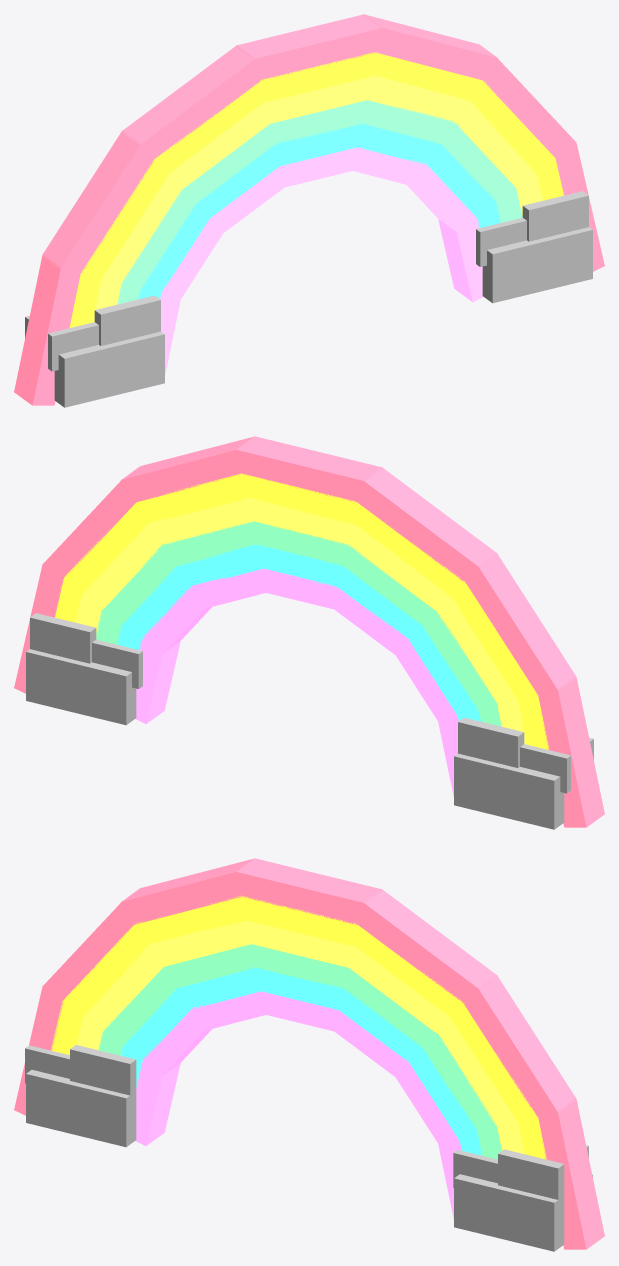
File: MutRainbow.fbx
3 renders of one model, top to bottom at view 1: azimuth 30°, elevation 25°; view 2: azimuth 150°, elevation 25°; view 3: azimuth 330°, elevation 25°, orthographic.
Parts seen in each view (by area): view 1: Mut Rainbow_body_5, Mut Rainbow_body_4, Mut Rainbow_body_42, Mut Rainbow_body_45, Mut Rainbow_body_3, Mut Rainbow_body_6, Mut Rainbow_body_2, Mut Rainbow_body_1, Mut Rainbow_body_10, Mut Rainbow_body_12, Mut Rainbow_body_8, Mut Rainbow_body_18 (+33 smaller); view 2: Mut Rainbow_body_4, Mut Rainbow_body_5, Mut Rainbow_body_42, Mut Rainbow_body_45, Mut Rainbow_body_3, Mut Rainbow_body_6, Mut Rainbow_body_2, Mut Rainbow_body_1, Mut Rainbow_body_9, Mut Rainbow_body_10, Mut Rainbow_body_12, Mut Rainbow_body_18 (+33 smaller); view 3: Mut Rainbow_body_1, Mut Rainbow_body_2, Mut Rainbow_body_42, Mut Rainbow_body_45, Mut Rainbow_body_3, Mut Rainbow_body_0, Mut Rainbow_body_4, Mut Rainbow_body_5, Mut Rainbow_body_10, Mut Rainbow_body_12, Mut Rainbow_body_8, Mut Rainbow_body_16 (+33 smaller).
Boxes of the visible parts, <box> form: Mut Rainbow_body_5: <box>42,130,158,279</box>; Mut Rainbow_body_4: <box>121,45,265,163</box>; Mut Rainbow_body_42: <box>54,331,164,407</box>; Mut Rainbow_body_45: <box>482,227,592,303</box>; Mut Rainbow_body_3: <box>236,14,382,82</box>; Mut Rainbow_body_6: <box>14,254,79,405</box>; Mut Rainbow_body_2: <box>363,14,497,81</box>; Mut Rainbow_body_1: <box>478,44,576,161</box>; Mut Rainbow_body_10: <box>259,51,377,103</box>; Mut Rainbow_body_12: <box>80,160,171,283</box>; Mut Rainbow_body_8: <box>466,80,555,176</box>; Mut Rainbow_body_18: <box>168,102,274,192</box>; Mut Rainbow_body_4: <box>353,467,497,585</box>; Mut Rainbow_body_5: <box>467,552,576,700</box>; Mut Rainbow_body_42: <box>454,753,564,829</box>; Mut Rainbow_body_45: <box>26,649,136,725</box>; Mut Rainbow_body_3: <box>236,436,382,504</box>; Mut Rainbow_body_6: <box>536,676,604,827</box>; Mut Rainbow_body_2: <box>121,436,255,501</box>; Mut Rainbow_body_1: <box>43,466,140,578</box>; Mut Rainbow_body_9: <box>137,473,251,524</box>; Mut Rainbow_body_10: <box>241,473,359,525</box>; Mut Rainbow_body_12: <box>448,582,538,705</box>; Mut Rainbow_body_18: <box>344,524,450,614</box>; Mut Rainbow_body_1: <box>460,974,576,1122</box>; Mut Rainbow_body_2: <box>353,889,497,1002</box>; Mut Rainbow_body_42: <box>26,1070,136,1147</box>; Mut Rainbow_body_45: <box>454,1174,592,1251</box>; Mut Rainbow_body_3: <box>236,858,382,926</box>; Mut Rainbow_body_0: <box>536,1098,604,1249</box>; Mut Rainbow_body_4: <box>121,858,255,925</box>; Mut Rainbow_body_5: <box>42,888,140,1005</box>; Mut Rainbow_body_10: <box>241,896,359,947</box>; Mut Rainbow_body_12: <box>62,924,152,1020</box>; Mut Rainbow_body_8: <box>447,1004,537,1127</box>; Mut Rainbow_body_16: <box>344,945,450,1036</box>.
Bounding box in the file's own units: 428 × 213 × 50.
